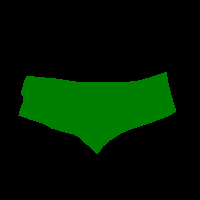mutande: (18, 71, 176, 154)
